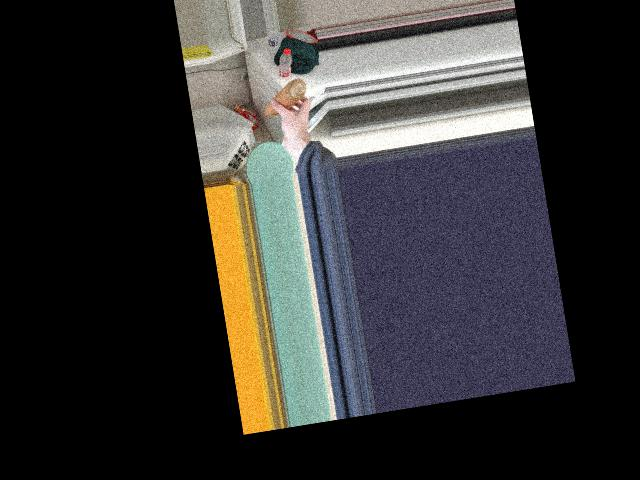sweet_potato: (259, 76, 309, 115)
